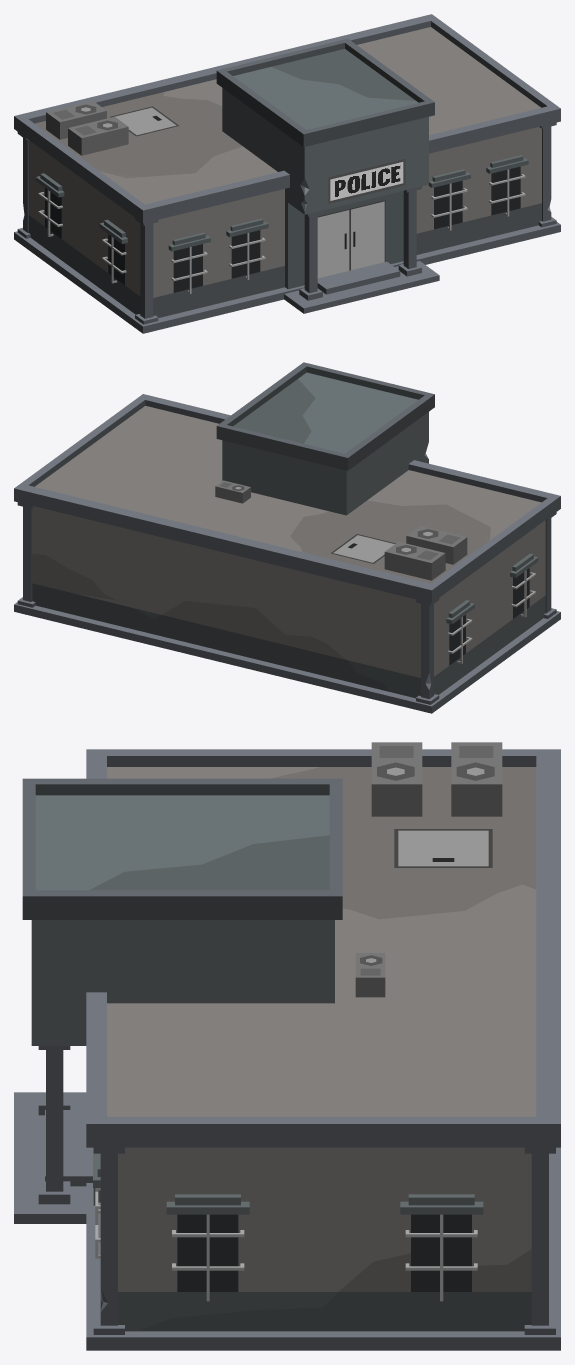
Rendered from SA_Bld_PoliceStation_Damaged_01.glb.
The picture shows the model from 3 angles, top to bottom: view 1: azimuth 30°, elevation 25°; view 2: azimuth 150°, elevation 25°; view 3: azimuth 270°, elevation 25°; orthographic projection. The views are drawn at different scales.
Visible parts, largest first — view 1: SA_Bld_PoliceStation_Damaged_01; view 2: SA_Bld_PoliceStation_Damaged_01; view 3: SA_Bld_PoliceStation_Damaged_01.
Part boxes in pixels (<box>): SA_Bld_PoliceStation_Damaged_01: <box>14,14,560,333</box>; SA_Bld_PoliceStation_Damaged_01: <box>14,362,560,713</box>; SA_Bld_PoliceStation_Damaged_01: <box>14,742,560,1350</box>.
Bounding box in the file's own units: 10.21 × 4.14 × 6.3.
1 material, 1 textured.
